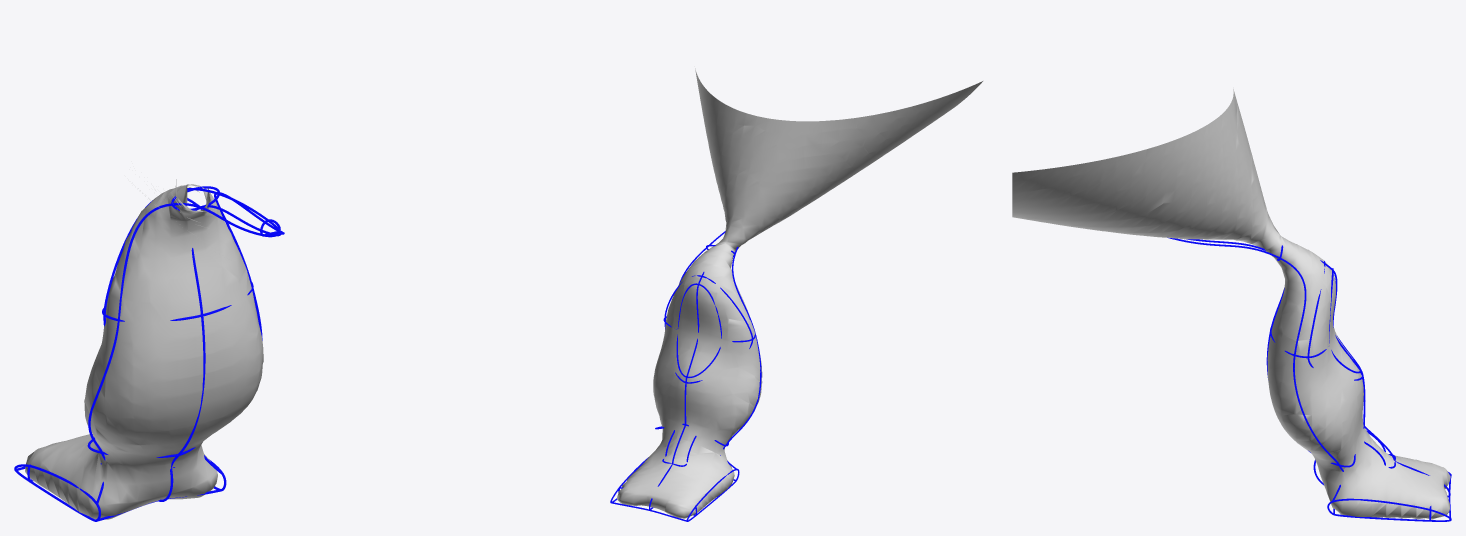
The model's file is t2f_vacuum_sketch_proxy.glb.
The picture shows the model from 3 angles, left to right: view 1: azimuth 30°, elevation 25°; view 2: azimuth 150°, elevation 25°; view 3: azimuth 270°, elevation 25°; orthographic projection. The views are drawn at different scales.
Visible parts, largest first — view 1: t2f_vacuum_surface, t2f_vacuum; view 2: t2f_vacuum_surface, t2f_vacuum; view 3: t2f_vacuum_surface, t2f_vacuum.
Part boxes in pixels (box(x1,y1,x2,y2)): t2f_vacuum_surface: box(25, 179, 263, 519); t2f_vacuum: box(14, 186, 284, 521); t2f_vacuum_surface: box(617, 68, 982, 518); t2f_vacuum: box(610, 231, 761, 521); t2f_vacuum_surface: box(1012, 89, 1450, 519); t2f_vacuum: box(1167, 237, 1451, 521).
Bounding box in the file's own units: 0.8499 × 1 × 0.995.
